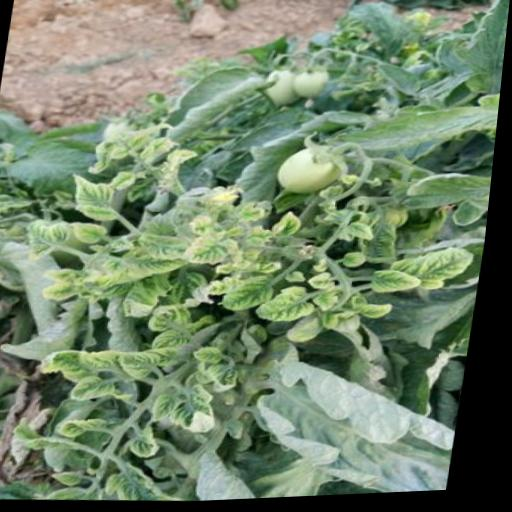Yellow Leaf Curl Virus: (407, 247, 485, 299), (61, 171, 129, 226), (175, 382, 234, 439), (38, 344, 114, 386), (145, 303, 205, 352), (258, 289, 329, 329), (177, 230, 244, 270), (223, 274, 284, 315), (28, 216, 76, 262), (373, 267, 431, 300), (121, 349, 174, 379), (67, 415, 121, 440), (73, 218, 114, 247), (197, 346, 232, 367)
